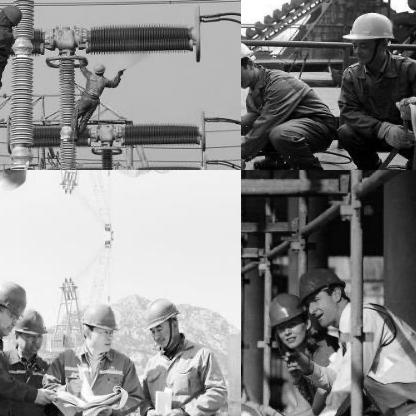Helmet: (299, 268, 353, 334), (345, 7, 399, 63), (264, 291, 308, 355), (138, 292, 182, 349), (76, 298, 122, 352), (12, 303, 46, 357), (0, 275, 29, 329), (241, 35, 262, 87), (0, 170, 30, 194), (0, 0, 21, 28), (137, 170, 184, 178), (91, 60, 105, 74)
